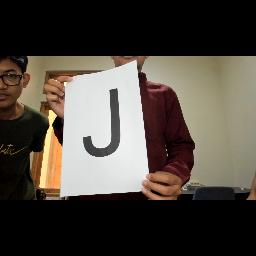j: (80, 86, 126, 162)
